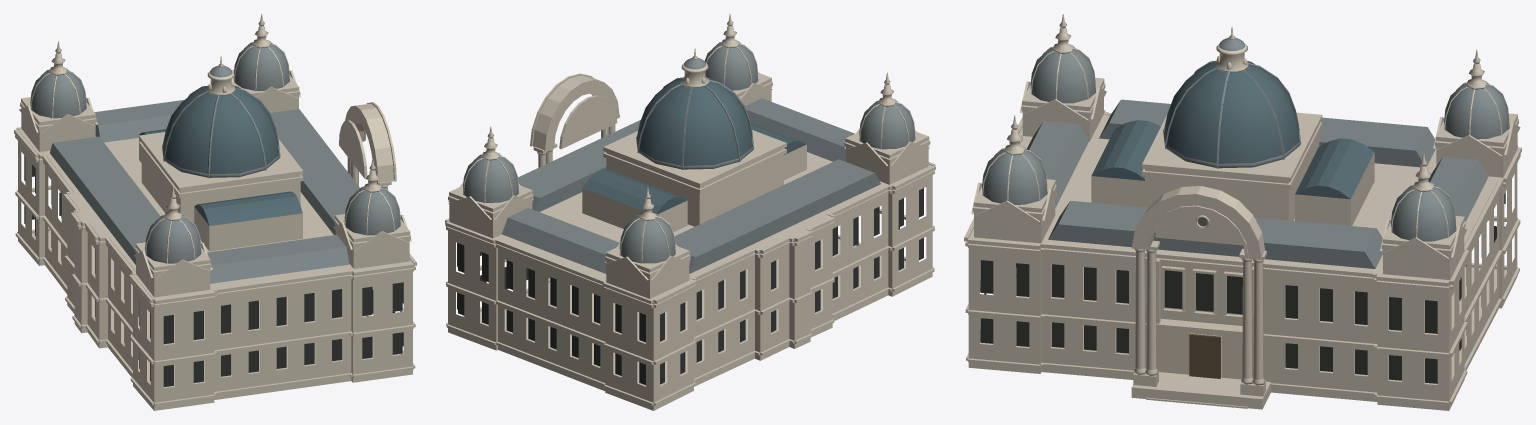
Rendered from cec-palace-far.glb.
The picture shows the model from 3 angles, left to right: view 1: azimuth 30°, elevation 25°; view 2: azimuth 150°, elevation 25°; view 3: azimuth 270°, elevation 25°; orthographic projection. The views are drawn at different scales.
Visible parts, largest first — view 1: cec-palace-0-stone, cec-palace-0-roof, cec-palace-0-glass, cec-palace-0-window; view 2: cec-palace-0-stone, cec-palace-0-roof, cec-palace-0-glass, cec-palace-0-window; view 3: cec-palace-0-stone, cec-palace-0-roof, cec-palace-0-glass, cec-palace-0-window, cec-palace-0-wood.
Part boxes in pixels (<box>): cec-palace-0-stone: <box>14,14,416,410</box>; cec-palace-0-roof: <box>30,42,400,283</box>; cec-palace-0-glass: <box>139,85,302,225</box>; cec-palace-0-window: <box>24,155,403,386</box>; cec-palace-0-stone: <box>445,14,935,410</box>; cec-palace-0-roof: <box>463,42,915,273</box>; cec-palace-0-glass: <box>582,78,806,214</box>; cec-palace-0-window: <box>457,188,923,384</box>; cec-palace-0-stone: <box>964,14,1521,410</box>; cec-palace-0-roof: <box>982,37,1509,268</box>; cec-palace-0-glass: <box>1091,61,1374,199</box>; cec-palace-0-window: <box>980,192,1505,383</box>; cec-palace-0-wood: <box>1189,334,1220,378</box>.
Size of the model in its own units: 51.77 by 40 by 68.31.
